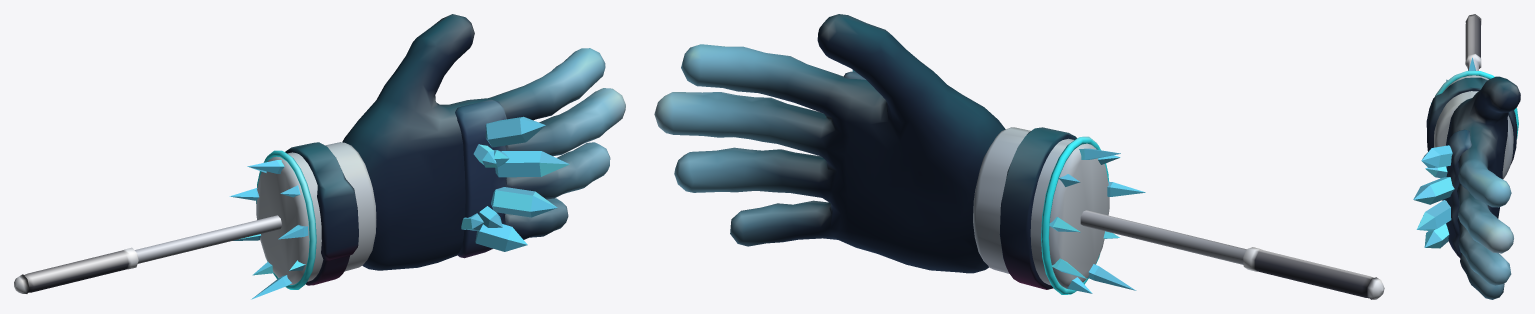
File: glove_ice.glb
The picture shows the model from 3 angles, left to right: view 1: azimuth 30°, elevation 25°; view 2: azimuth 150°, elevation 25°; view 3: azimuth 270°, elevation 25°; orthographic projection. The views are drawn at different scales.
Visible parts, largest first — view 1: Glove, Glow, Stick; view 2: Glove, Stick, Glow; view 3: Glove, Glow, Stick.
Boxes of the visible parts, left/top/right/bottom form: Glove: left=256, top=14, right=625, bottom=285; Glow: left=229, top=116, right=569, bottom=299; Stick: left=14, top=215, right=281, bottom=293; Glove: left=654, top=14, right=1109, bottom=289; Stick: left=1080, top=210, right=1384, bottom=299; Glow: left=852, top=70, right=1145, bottom=294; Glove: left=1426, top=75, right=1520, bottom=299; Glow: left=1413, top=57, right=1518, bottom=248; Stick: left=1465, top=14, right=1481, bottom=70.
Bounding box in the file's own units: 1.17 × 0.4102 × 0.2199.
